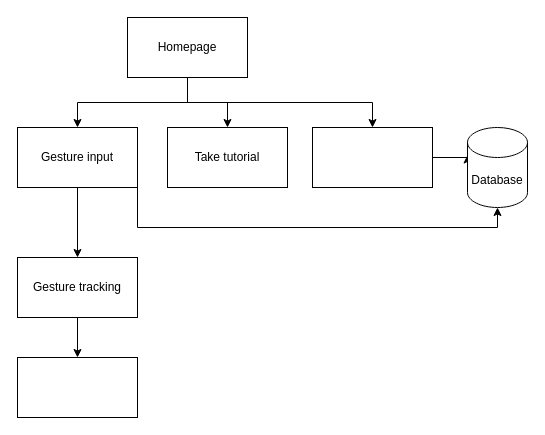
Some shapes in this 545 by 435 pixel diagram are drawn without their labels. Each missing label, with the centre of its shape:
Add custom sign: point 372,157
Display message: point 77,387
